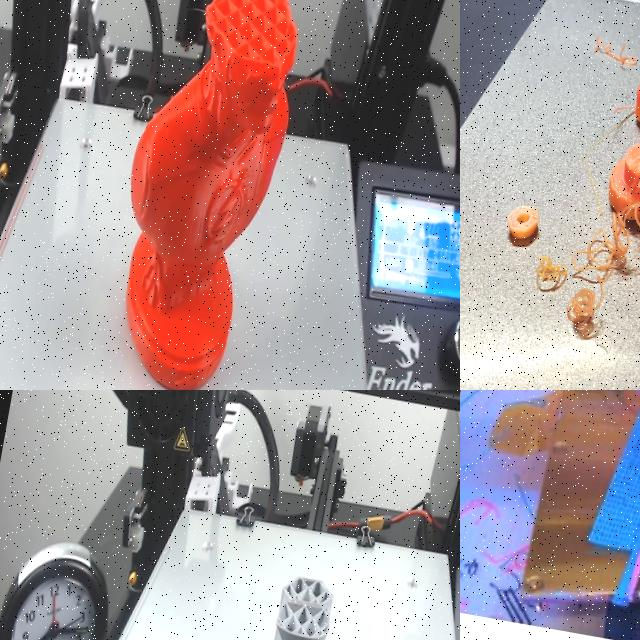spaghetti: (574, 197, 636, 284), (581, 21, 640, 89), (522, 238, 574, 298), (564, 288, 608, 334)
